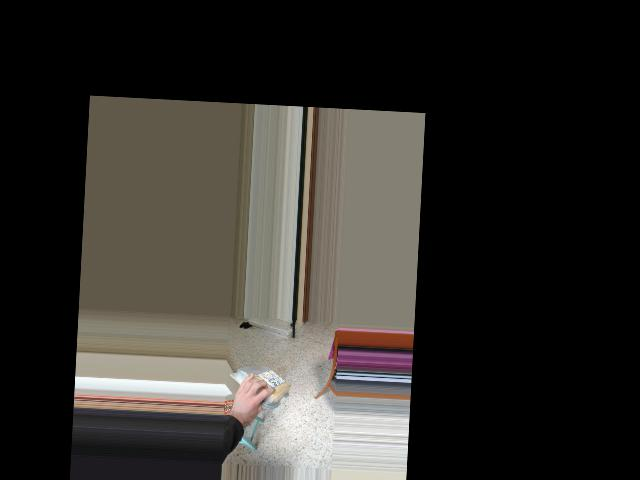cheese: (232, 369, 297, 399)
